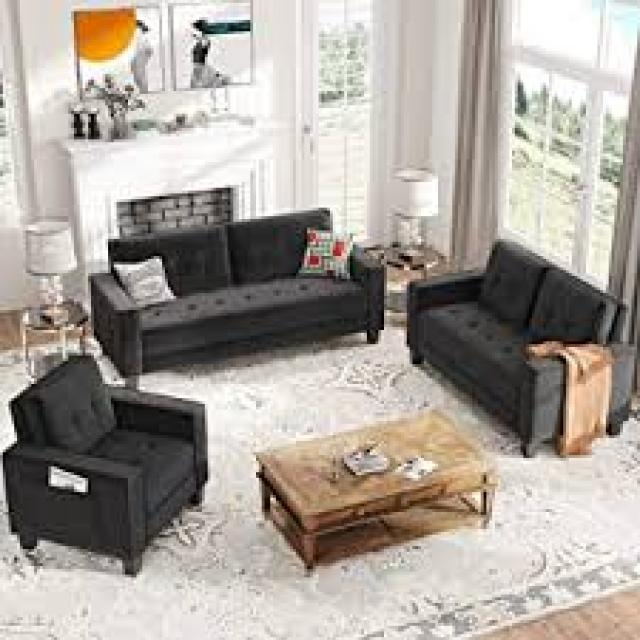Chair: (7, 367, 230, 590)
Sofa: (398, 239, 640, 441), (98, 221, 380, 360)
Table: (257, 406, 511, 562), (15, 204, 69, 324), (397, 174, 443, 256)
